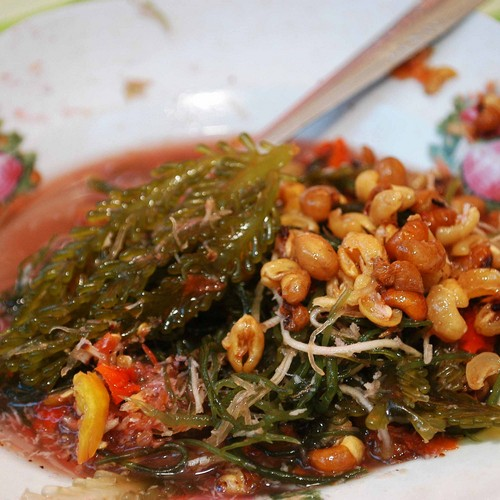bulung buni: (51, 142, 487, 471)
